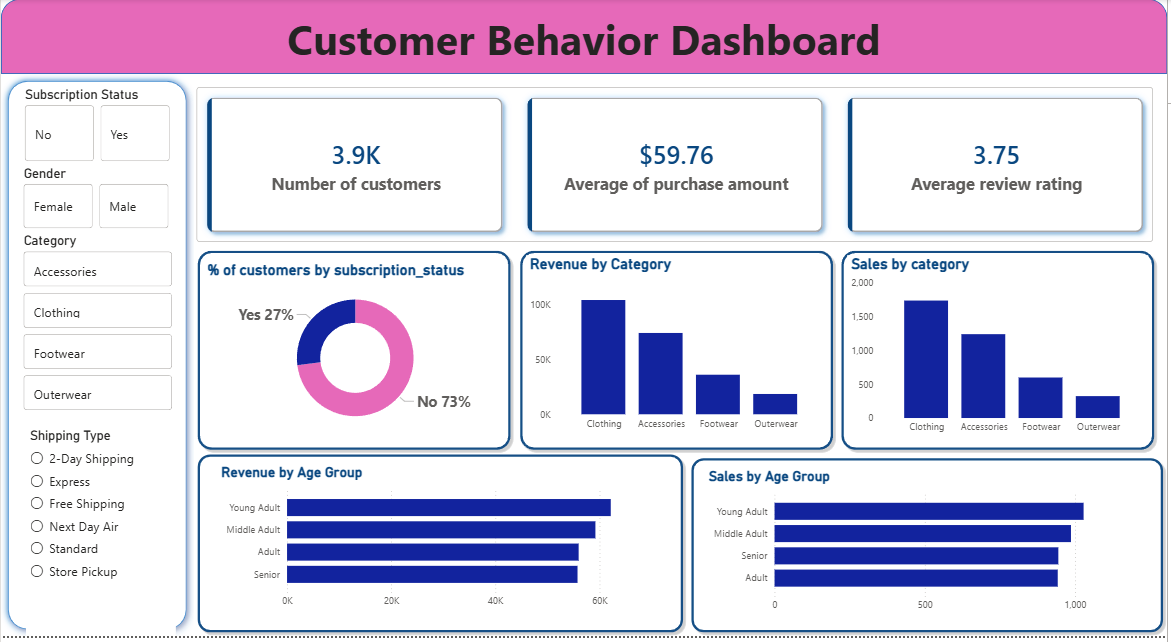

Layout of this report page (visuals, bound fields, positions):
{"tool":"powerbi","page":{"name":"Page 1","canvas":[1500,820],"ordinal":0},"visuals":[{"type":"cardVisual","fields":{"Data":["customer_behavior customers.Number of customers","customer_behavior customers.Average of purchase amount","customer_behavior customers.Average review rating"]},"box":[234.8,96.5,1265.5,233.2],"z":0},{"type":"shape","box":[0,0,1500.3,96.5],"z":1000},{"type":"textbox","box":[0,9.6,1500.3,86.8],"z":2000},{"type":"shape","box":[247.6,318.4,413.3,266.9],"z":3000},{"type":"donutChart","title":"% of customers by subscription_status","fields":{"Category":["customer_behavior customers.subscription_status"],"Y":["CountNonNull(customer_behavior customers.customer_id)"]},"box":[260.5,337.7,390.8,226.7],"z":4000},{"type":"shape","box":[662.5,318.4,413.3,266.9],"z":5000},{"type":"shape","box":[1075.8,318.4,413.3,266.9],"z":6000},{"type":"clusteredColumnChart","title":"Revenue by Category","fields":{"Y":["Sum(customer_behavior customers.purchase_amount_(usd))"],"Category":["customer_behavior customers.category"]},"box":[675.4,329.7,385.9,234.8],"z":6001},{"type":"clusteredColumnChart","title":"Sales by category","fields":{"Y":["CountNonNull(customer_behavior customers.customer_id)"],"Category":["customer_behavior customers.category"]},"box":[1088.7,329.7,387.5,239.6],"z":6002},{"type":"shape","box":[0,96.5,247.6,723.6],"z":6003},{"type":"advancedSlicerVisual","title":"Subscription Status","fields":{"Values":["customer_behavior customers.subscription_status"]},"box":[25.7,112.6,196.2,101.3],"z":6004},{"type":"advancedSlicerVisual","title":"Gender","fields":{"Values":["customer_behavior customers.gender"]},"box":[24.1,213.9,197.8,86.8],"z":6005},{"type":"advancedSlicerVisual","title":"Category","fields":{"Values":["customer_behavior customers.category"]},"box":[24.1,300.7,201,236.4],"z":6006},{"type":"listSlicer","title":"Shipping Type","fields":{"Values":["customer_behavior customers.shipping_type"]},"box":[32.2,551.6,193,268.5],"z":6007},{"type":"shape","box":[247.6,580.5,635.2,239.6],"z":6009},{"type":"shape","box":[882.8,585.3,617.5,234.8],"z":6010},{"type":"clusteredBarChart","title":"Sales by Age Group","fields":{"Y":["CountNonNull(customer_behavior customers.customer_id)"],"Category":["customer_behavior customers.age_group"]},"box":[905.3,603,574.1,194.6],"z":6011},{"type":"clusteredBarChart","title":"Revenue by Age Group","fields":{"Category":["customer_behavior customers.age_group"],"Y":["Sum(customer_behavior customers.purchase_amount_(usd))"]},"box":[278.2,598.2,574.1,194.6],"z":6012}]}

Visuals, with their boxes in screenshot pixels (x1, y1, x2, y2), scaled from the page's 1500x820 canvas onto the 1171x642 screenshot:
cardVisual - customer_behavior customers.Number of customers x customer_behavior customers.Average of purchase amount: bbox=[183, 76, 1170, 258]
shape: bbox=[0, 0, 1170, 76]
textbox: bbox=[0, 8, 1170, 75]
shape: bbox=[193, 249, 516, 458]
"% of customers by subscription_status" donutChart: bbox=[203, 264, 508, 442]
shape: bbox=[517, 249, 840, 458]
shape: bbox=[840, 249, 1162, 458]
"Revenue by Category" clusteredColumnChart: bbox=[527, 258, 829, 442]
"Sales by category" clusteredColumnChart: bbox=[850, 258, 1152, 446]
shape: bbox=[0, 76, 193, 641]
"Subscription Status" advancedSlicerVisual: bbox=[20, 88, 173, 167]
"Gender" advancedSlicerVisual: bbox=[19, 167, 173, 235]
"Category" advancedSlicerVisual: bbox=[19, 235, 176, 421]
"Shipping Type" listSlicer: bbox=[25, 432, 176, 641]
shape: bbox=[193, 454, 689, 641]
shape: bbox=[689, 458, 1170, 641]
"Sales by Age Group" clusteredBarChart: bbox=[707, 472, 1155, 624]
"Revenue by Age Group" clusteredBarChart: bbox=[217, 468, 665, 621]
